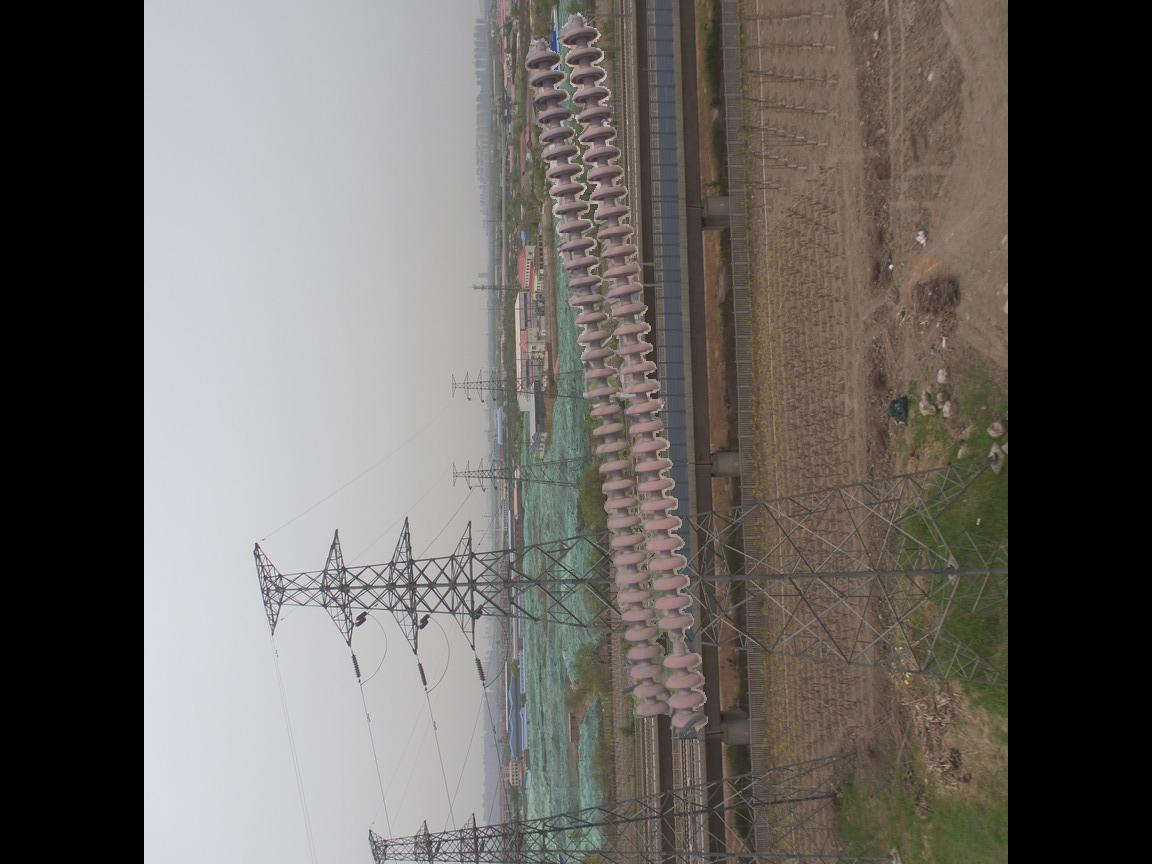insulator: (519, 14, 712, 737)
insulator_stringdrop: (653, 610, 705, 673)
